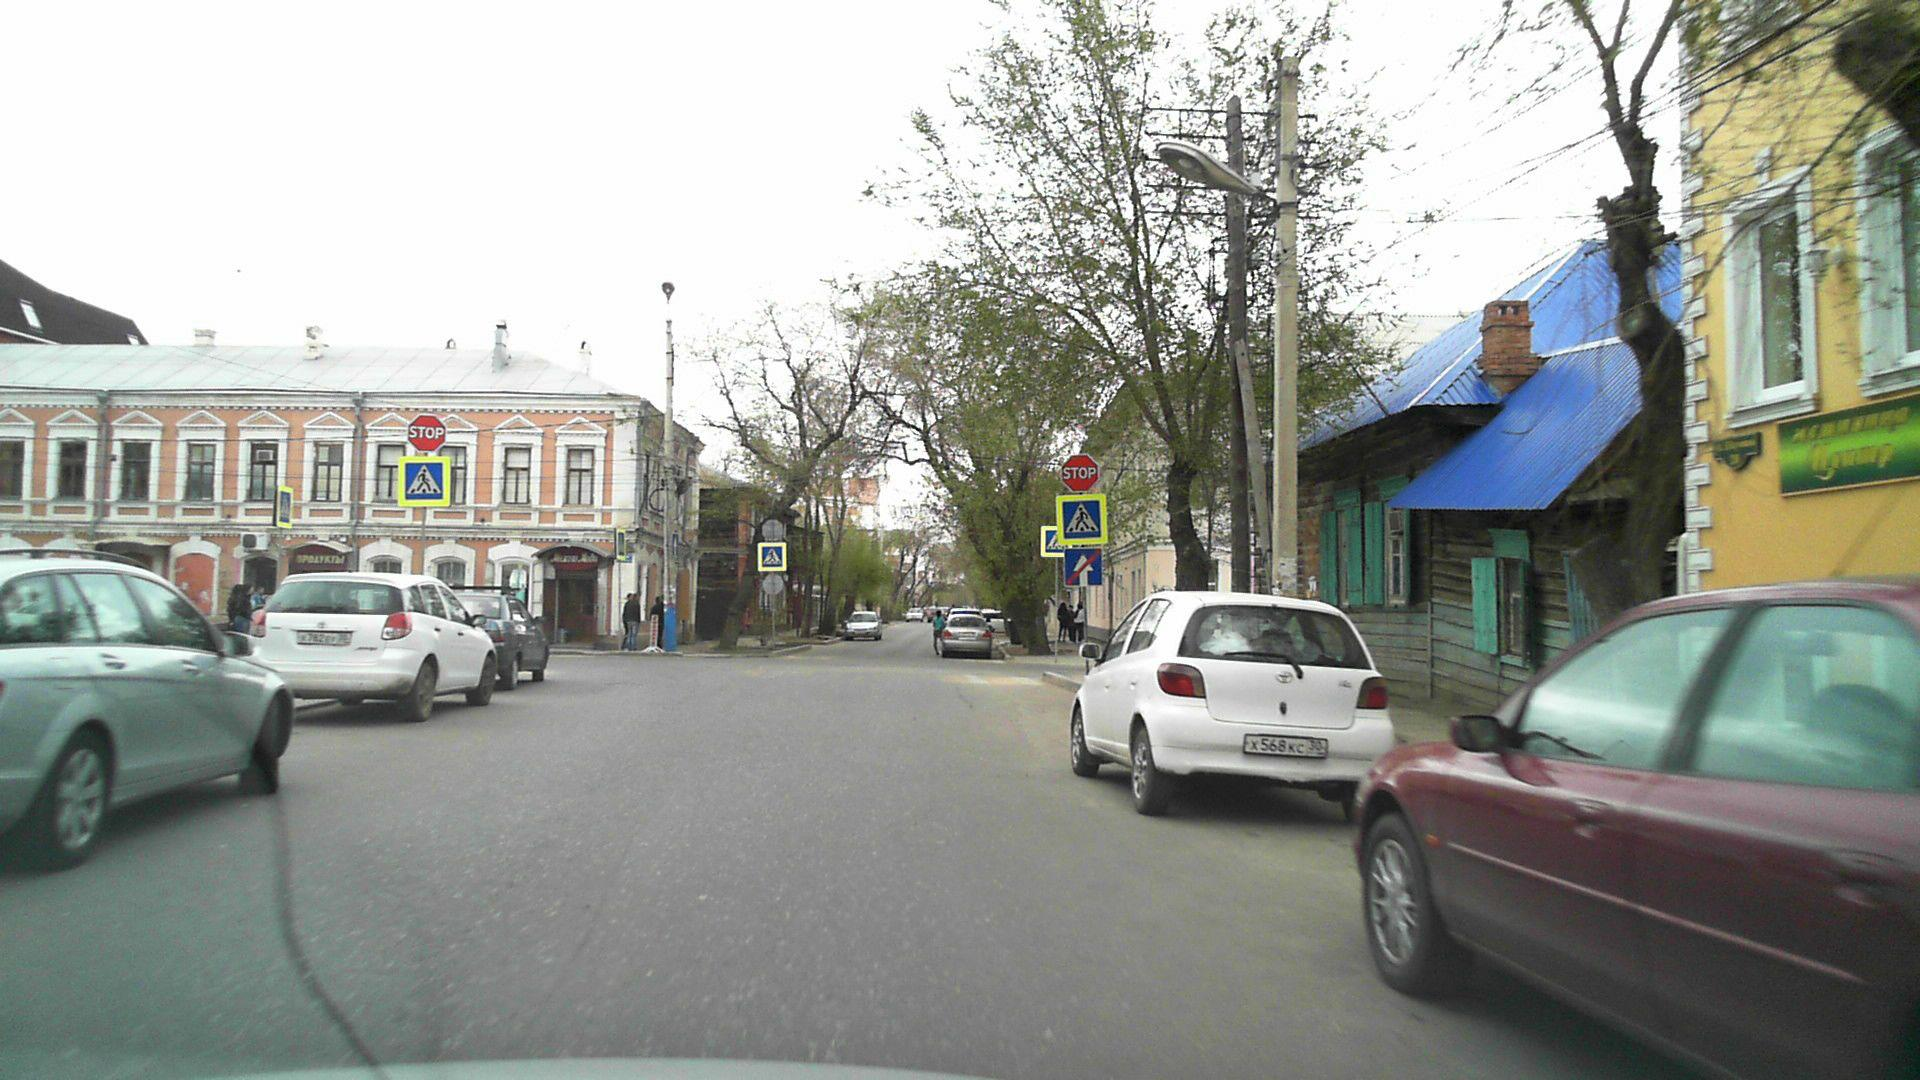2_5: (1062, 454, 1100, 493), (406, 415, 446, 452)
5_19_1: (1062, 501, 1102, 537), (1043, 530, 1064, 554), (618, 533, 628, 554)
5_19_2: (405, 463, 444, 501), (277, 491, 294, 522), (761, 546, 785, 568)
5_6: (1065, 549, 1102, 585)
